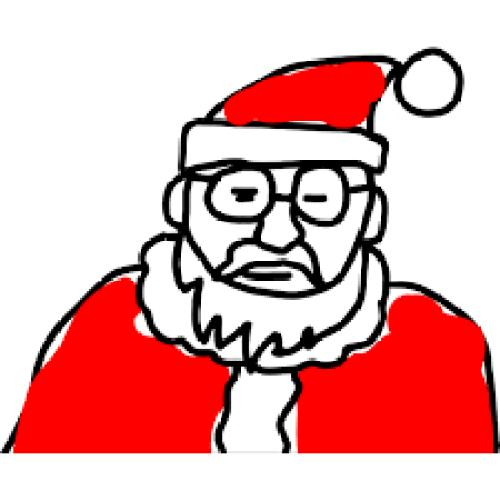Santa: (0, 46, 498, 453)
